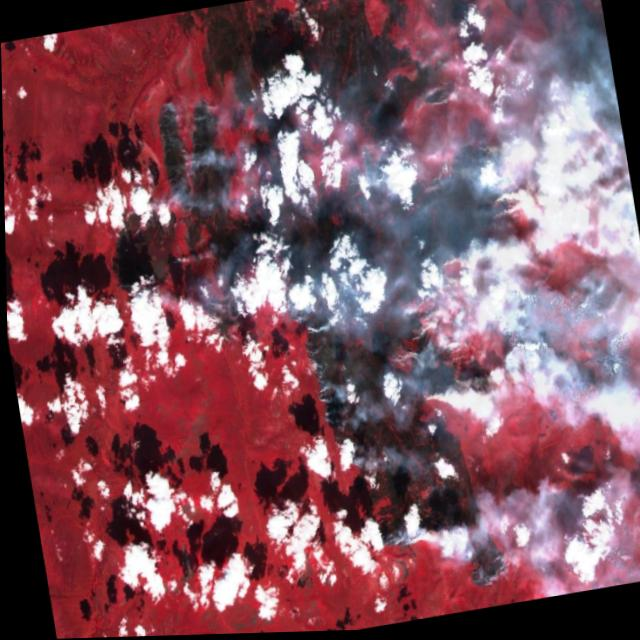fire: (73, 0, 585, 638)
